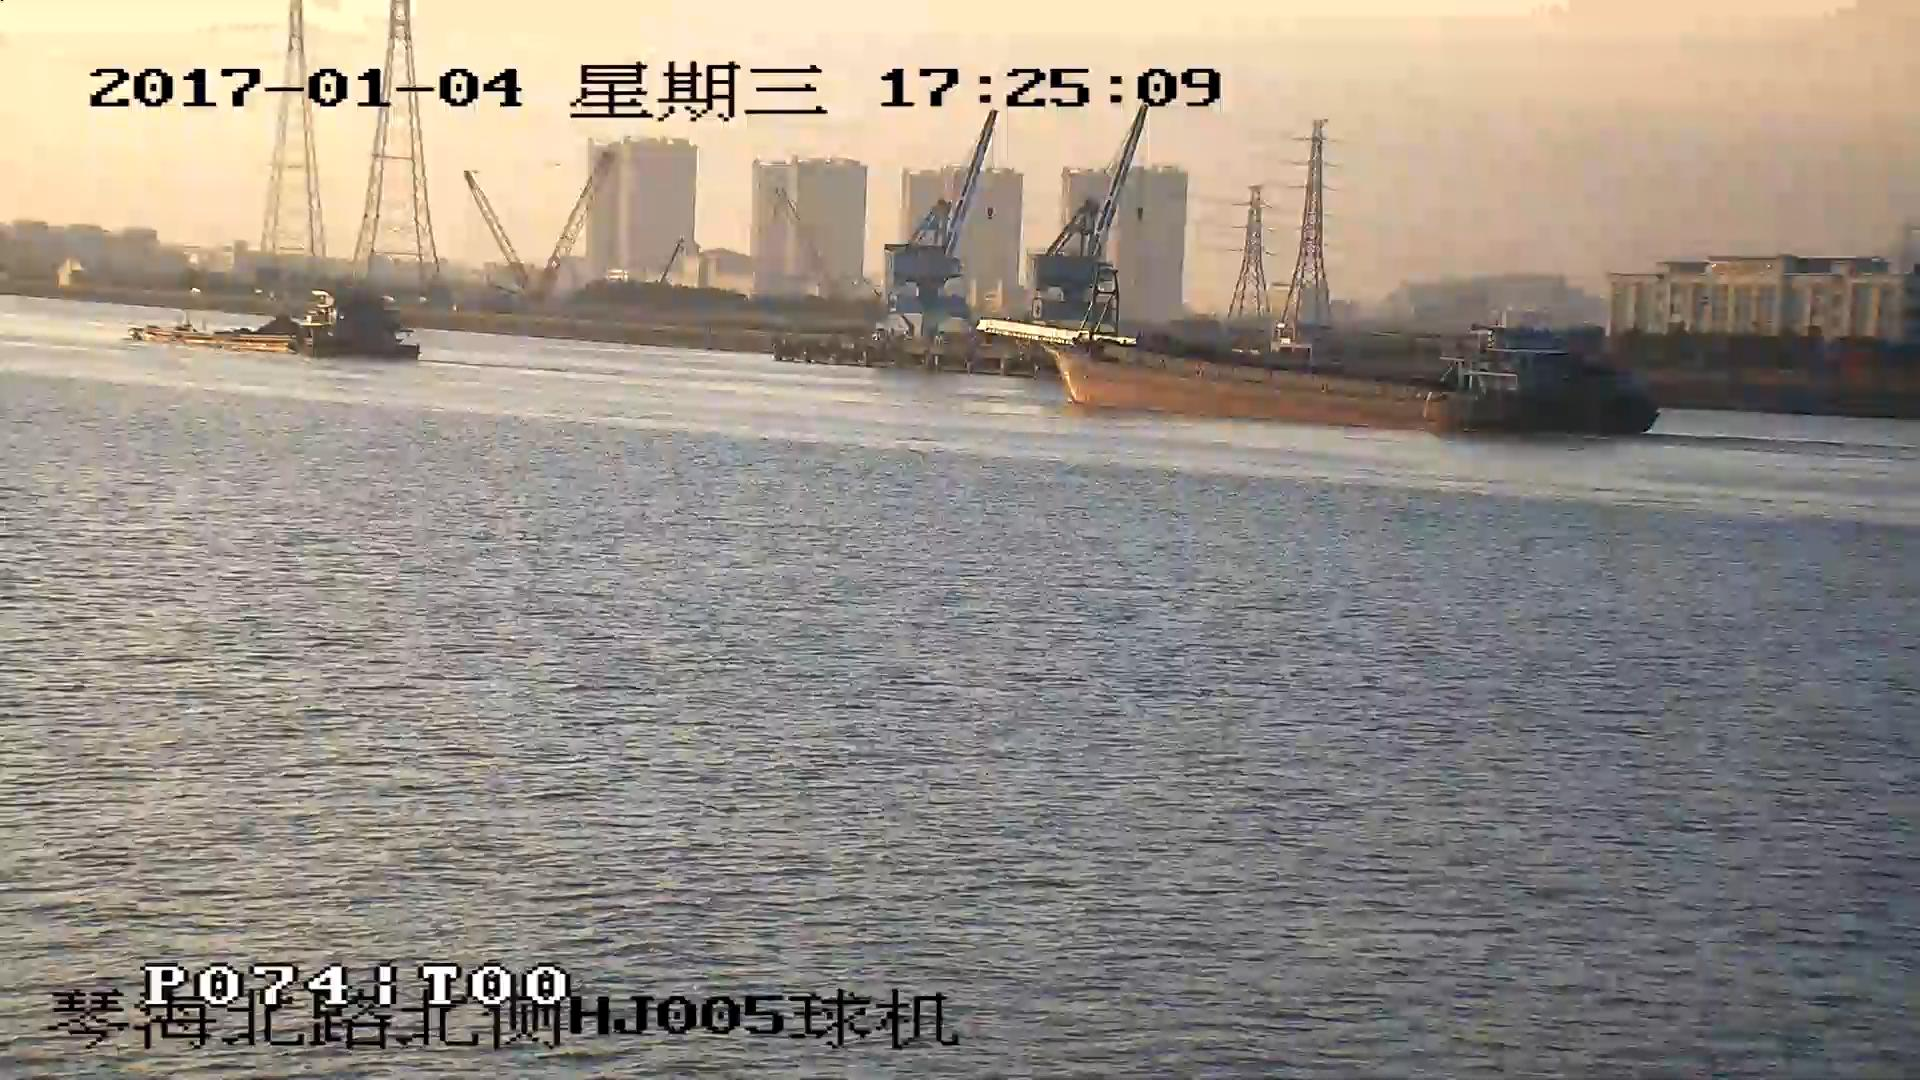bulk cargo carrier: (984, 320, 1652, 435)
ore carrier: (137, 297, 416, 362)
